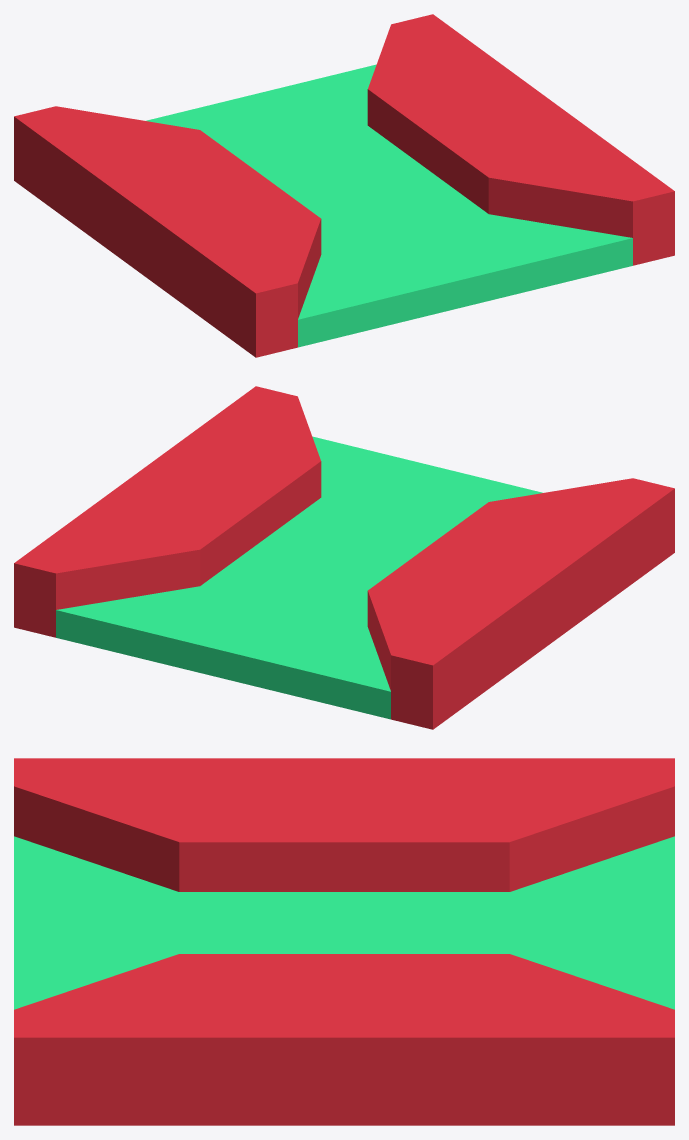
File: narrowSquare.fbx
The picture shows the model from 3 angles, top to bottom: view 1: azimuth 30°, elevation 25°; view 2: azimuth 150°, elevation 25°; view 3: azimuth 270°, elevation 25°; orthographic projection. The views are drawn at different scales.
Visible parts, largest first — view 1: narrowSquare; view 2: narrowSquare; view 3: narrowSquare.
Part boxes in pixels (bbox=[...]): narrowSquare: bbox=[14, 14, 674, 357]; narrowSquare: bbox=[14, 386, 674, 729]; narrowSquare: bbox=[14, 758, 674, 1125].
Bounding box in the file's own units: 10 × 1.47 × 10.
